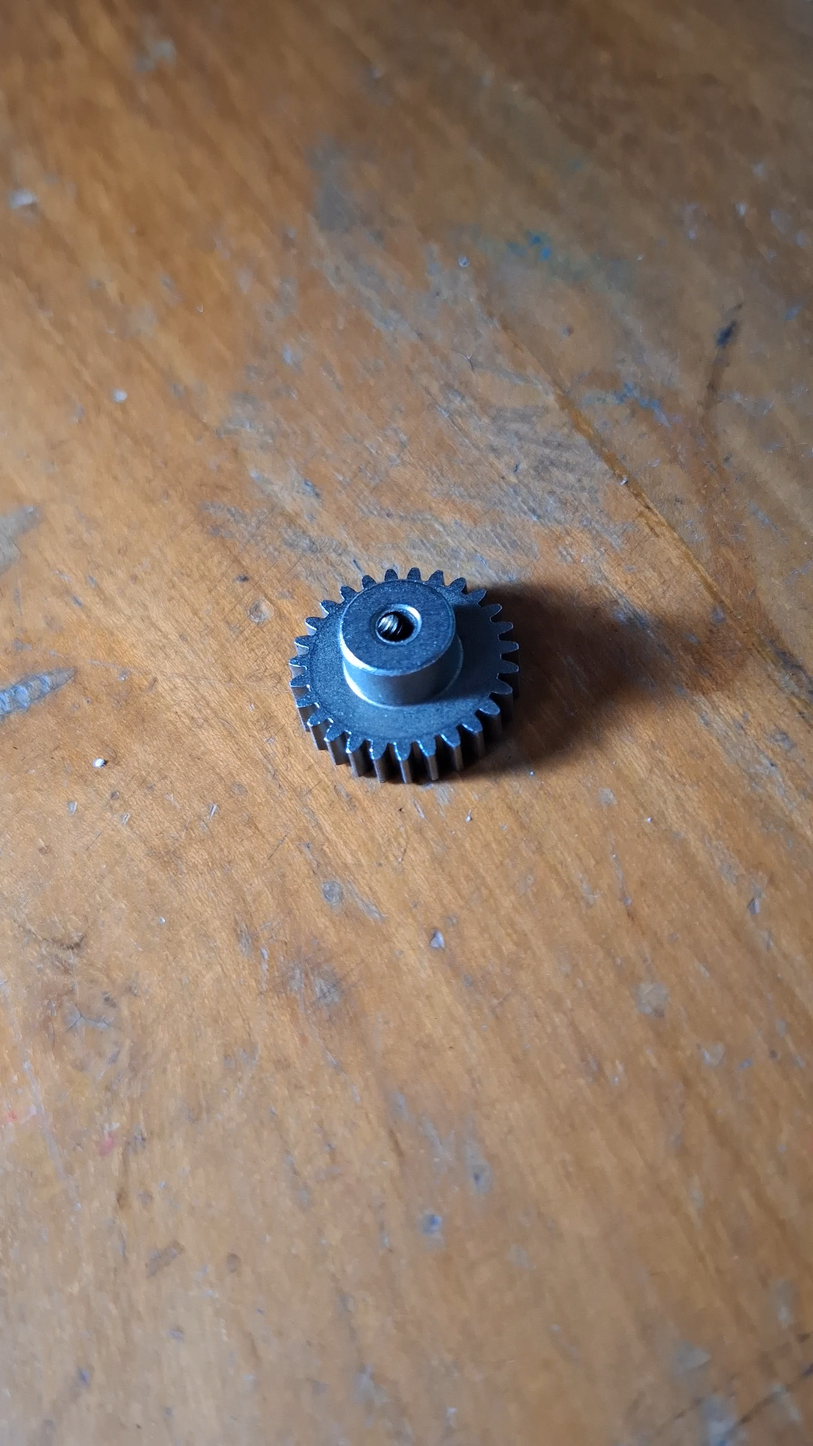spur gear: (291, 569, 518, 782)
